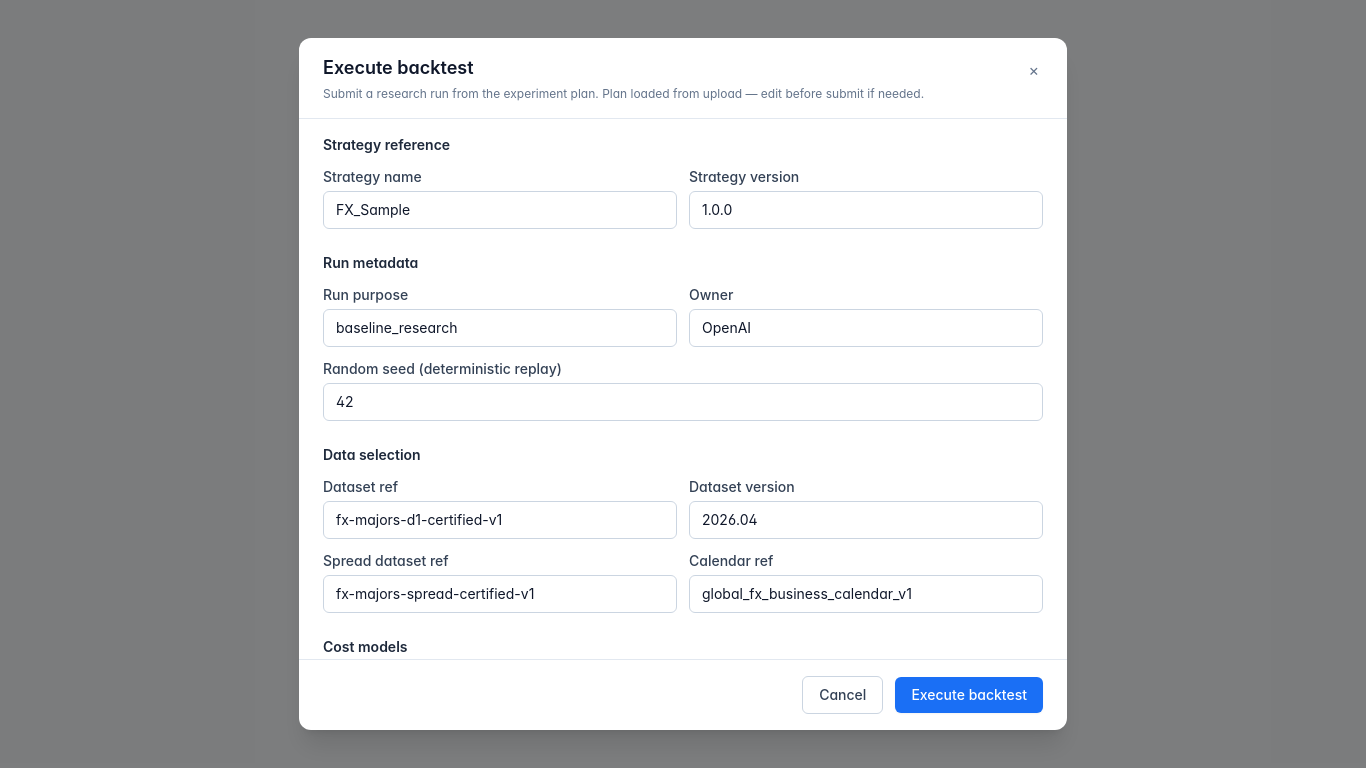
Test: RunBacktestModal › surfaces a backend 422 validation error inline (form banner + field message)
What coordinates should you click on to do the following:
click the button with test id "run-backtest-submit"
I would click on:
 (969, 695)
Its box is [895,677,1043,713].
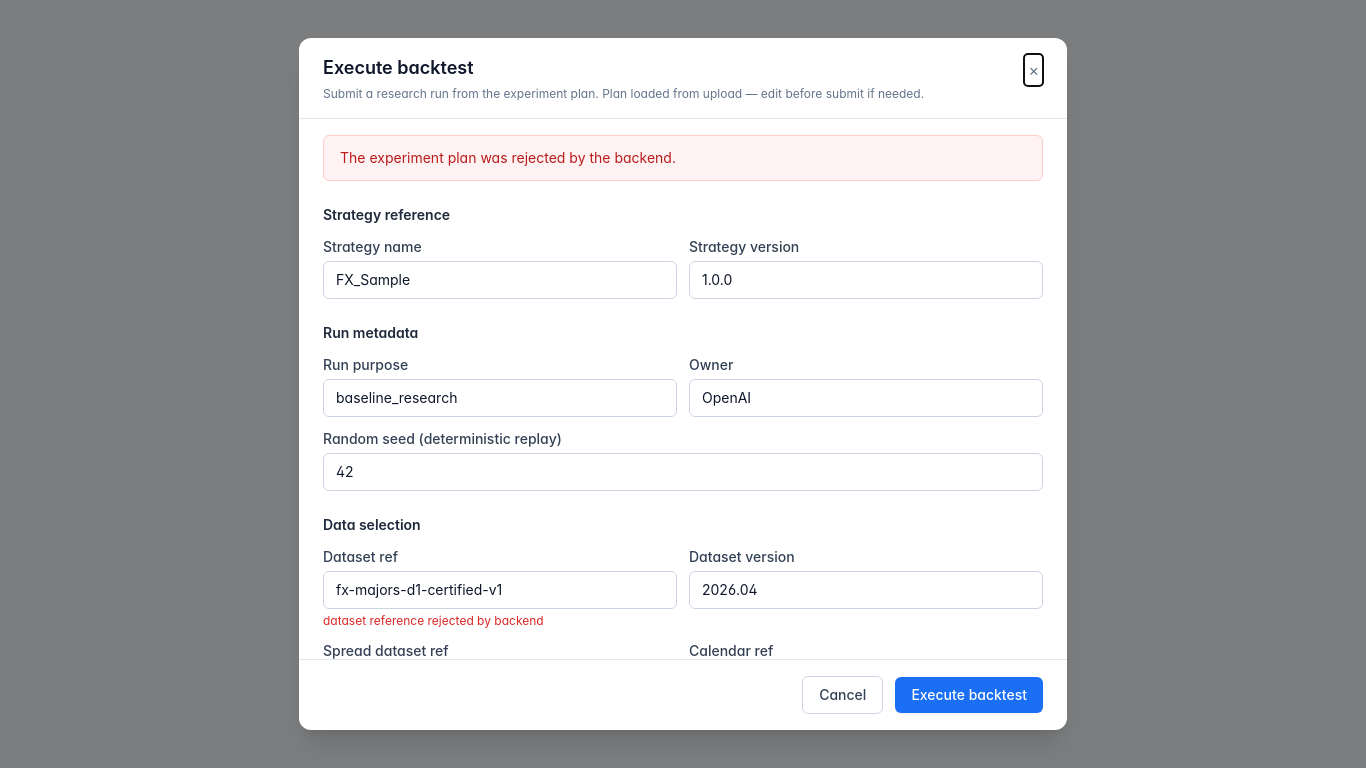
Expected: the message "The experiment plan was rejected by the backend." is shown, [323,135,1043,181]
Expected: the text with test id "error-data_selection.dataset_ref" reads "dataset reference rejected by backend", [323,613,544,628]
